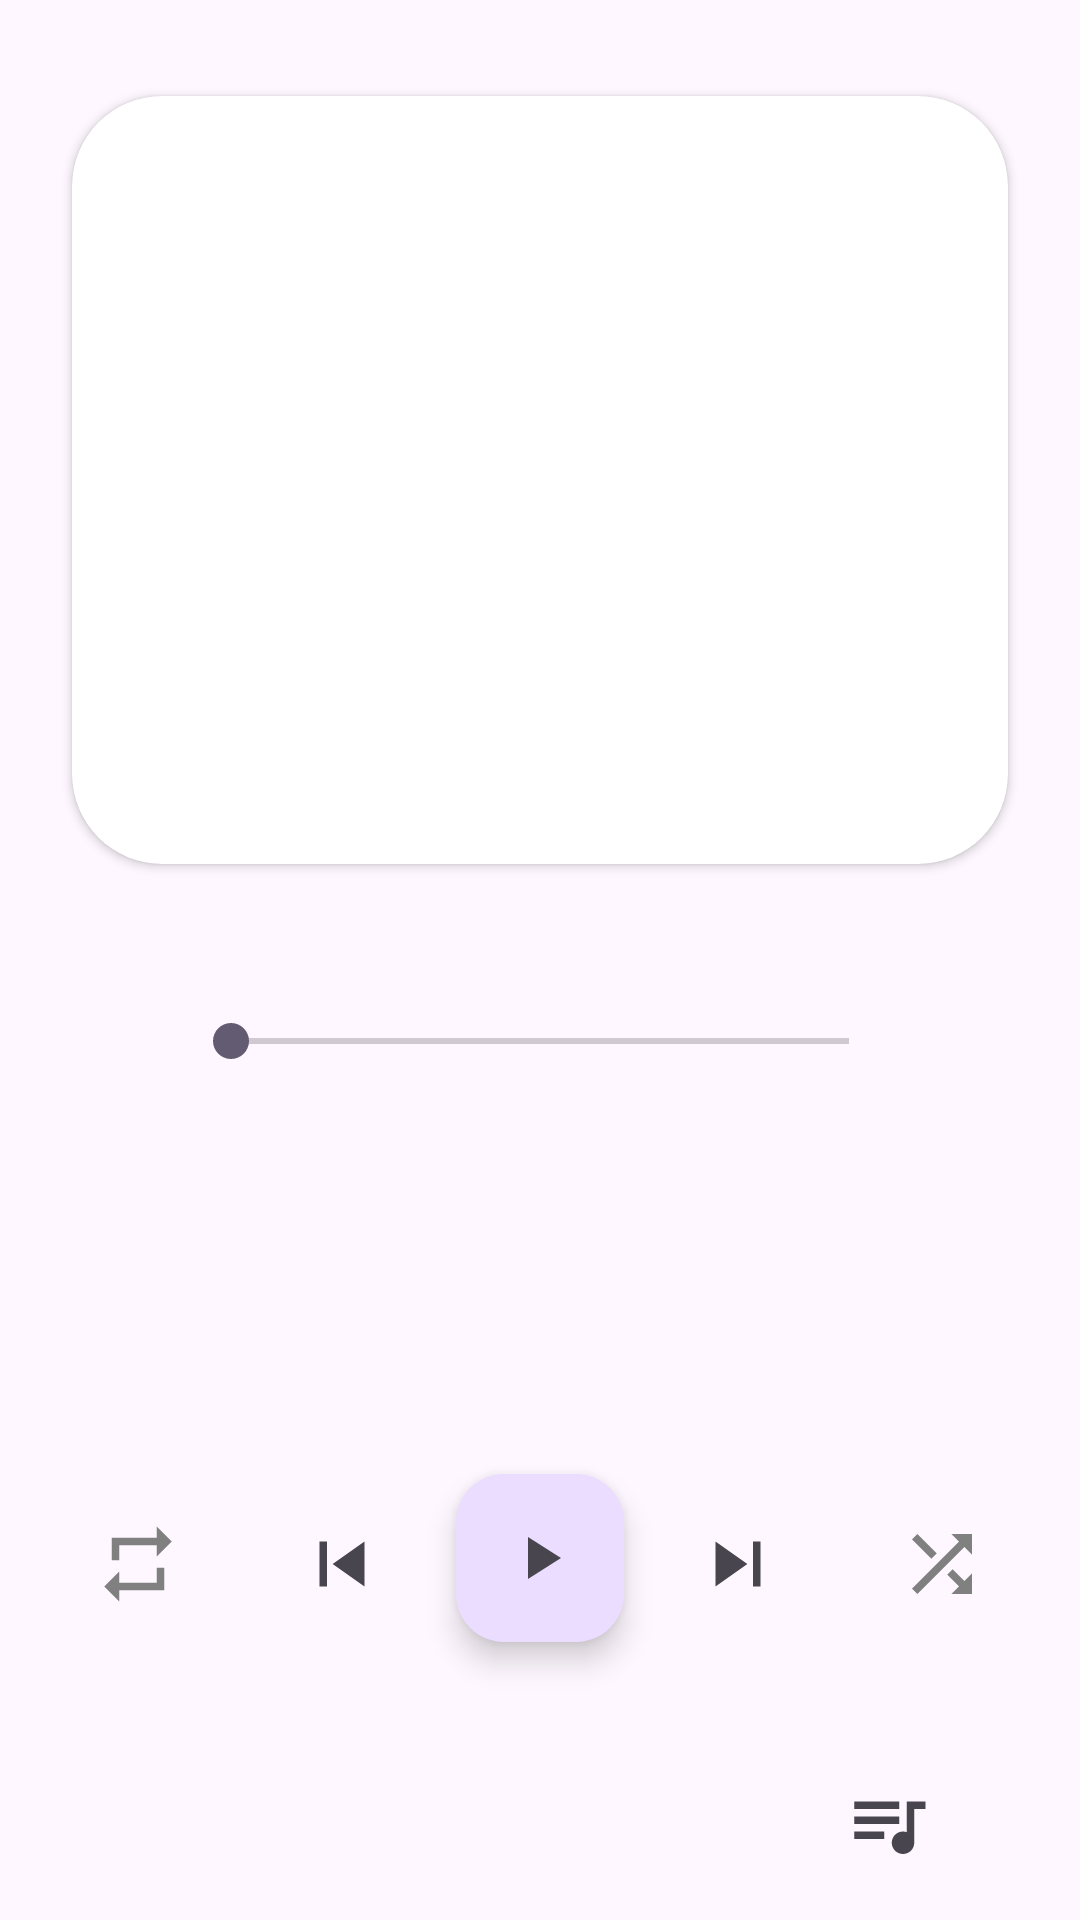

Named icons in this screenshot (1080×1920) and their centers, point (x, y):
aleatorio desativado: point (942, 1564)
anterior: point (342, 1564)
lista musica: point (890, 1827)
play: point (540, 1558)
proximo: point (738, 1564)
repetir desativado: point (138, 1564)
